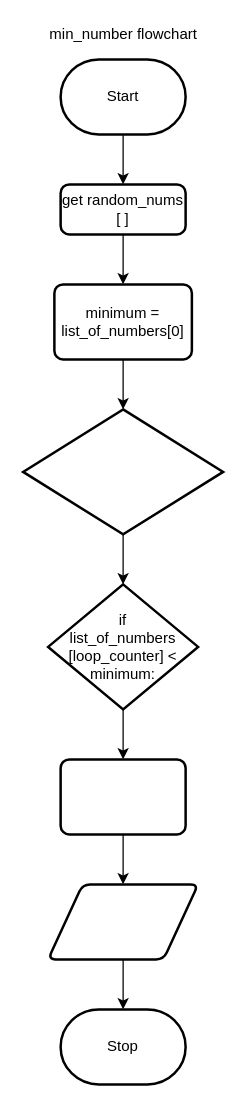
Some shapes in this 245 by 1106 pixel diagram are drawn without their labels. Here are the shapes that lost their labels. From the top down, the box of each, then its label:
(21, 408, 224, 535): for loop_counter in range(1, len (list_of_ numbers )):
(59, 758, 186, 835): minimum = list_of_numbers [loop_counter]
(46, 882, 199, 960): return minimum
